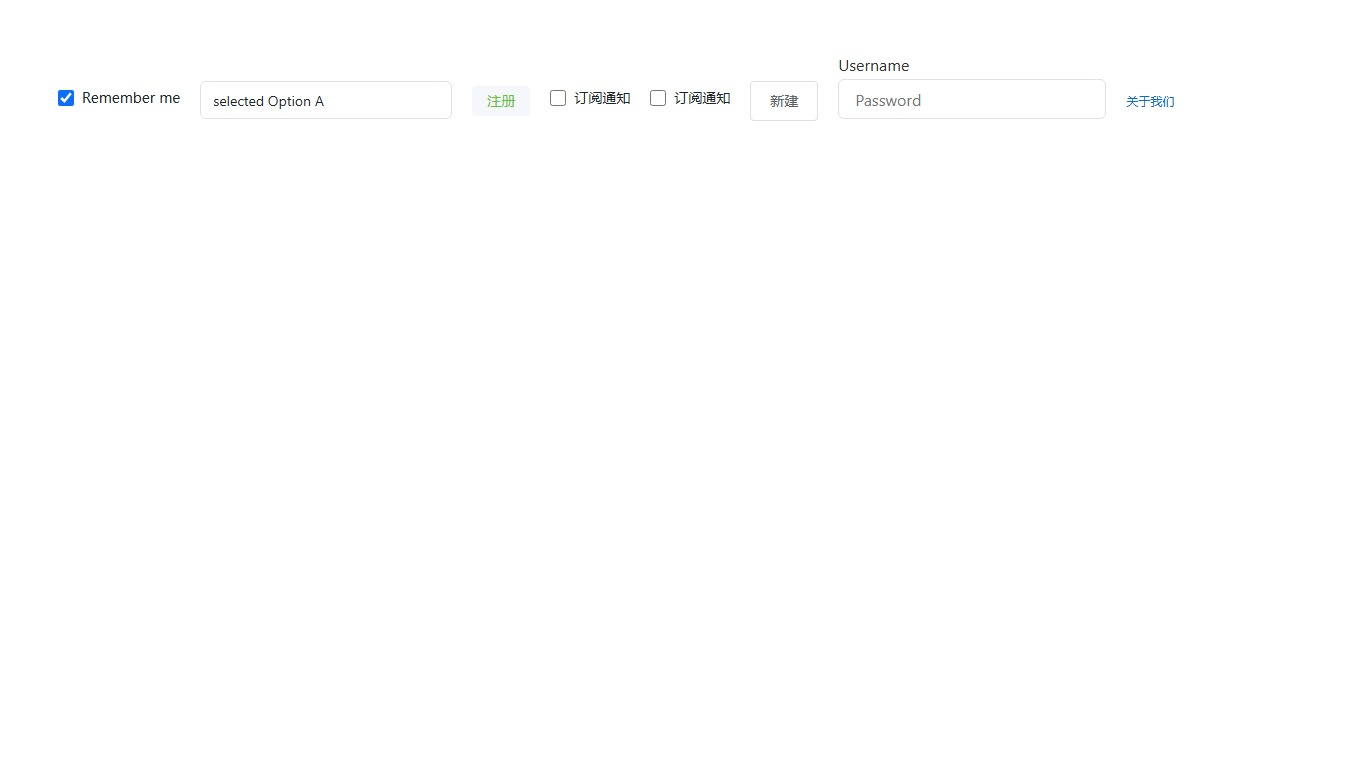button: (750, 80, 818, 120), (472, 85, 530, 115)
checkbox: (58, 90, 74, 105), (550, 90, 566, 105), (650, 90, 666, 105)
icon: (82, 88, 180, 107), (574, 88, 630, 107), (674, 88, 730, 107)
input: (838, 79, 1106, 119)
link: (1126, 92, 1174, 108)
radio: (58, 88, 180, 107), (550, 88, 630, 107), (650, 88, 730, 107)
select: (200, 81, 452, 119)
